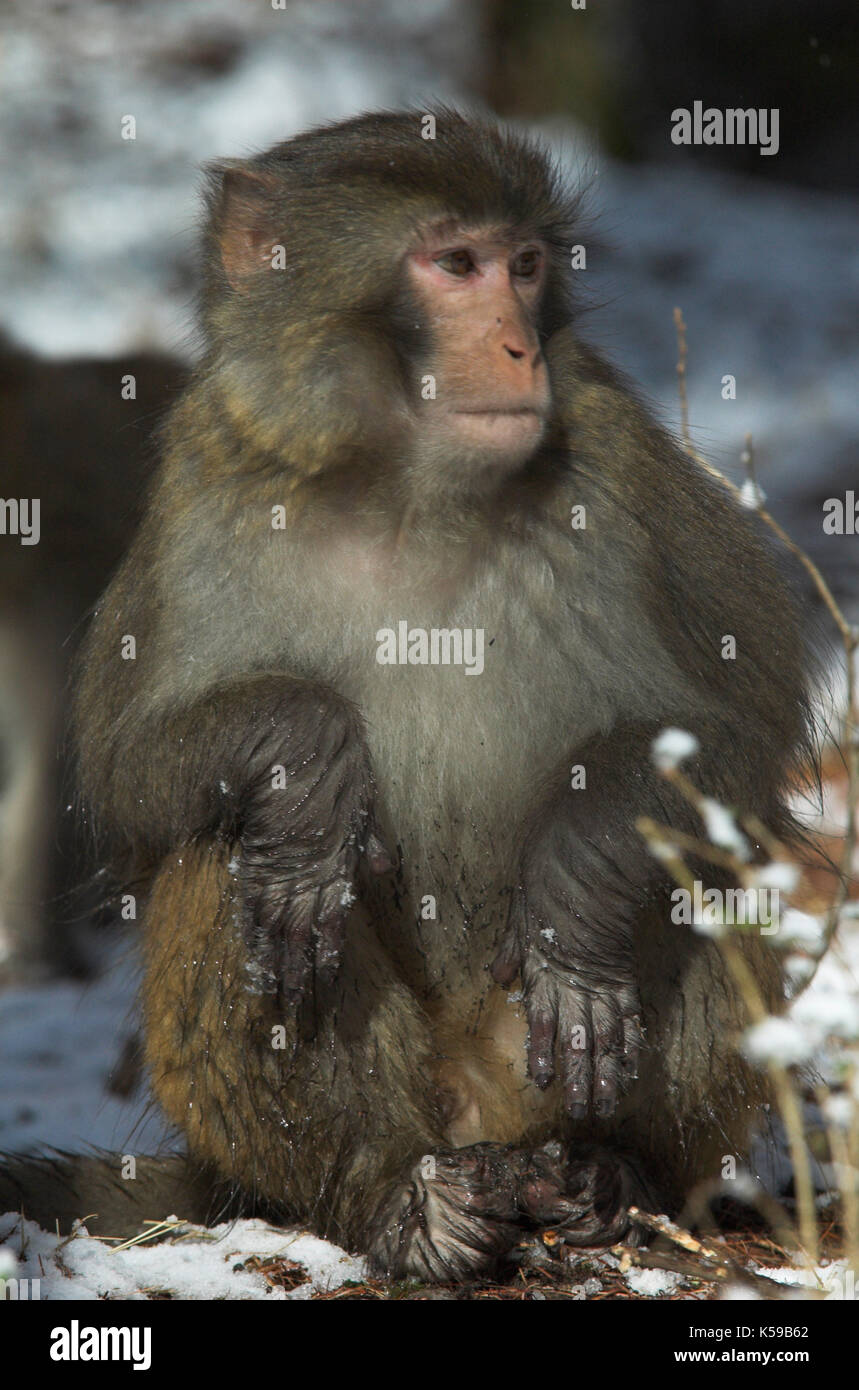monkey: (58, 93, 852, 1279)
